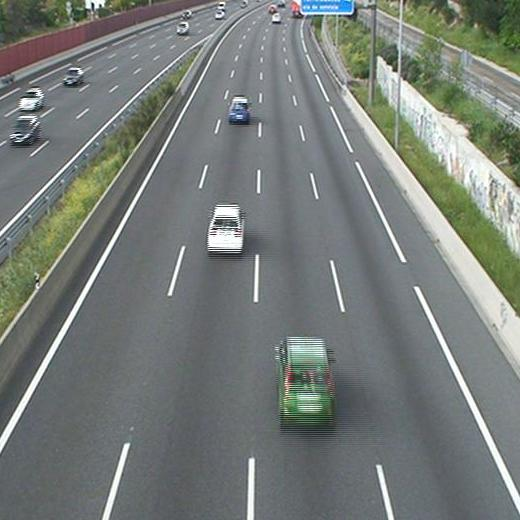car: (277, 338, 334, 418), (207, 206, 242, 253), (228, 98, 250, 121), (271, 12, 281, 22)
